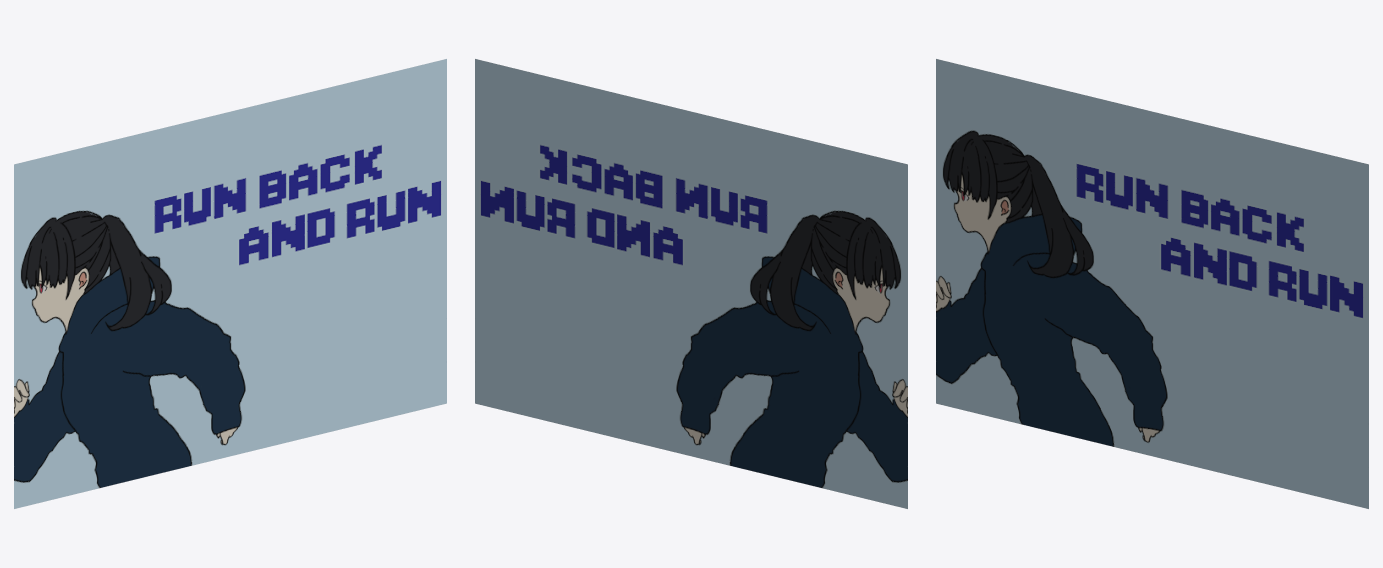
The model's file is Title.fbx.
3 renders of one model, left to right at view 1: azimuth 30°, elevation 25°; view 2: azimuth 150°, elevation 25°; view 3: azimuth 330°, elevation 25°, orthographic.
Parts seen in each view (by area): view 1: pPlane1; view 2: pPlane1; view 3: pPlane1.
Boxes of the visible parts, x1,y1,x2,y2 form: pPlane1: (14,59,446,508); pPlane1: (475,59,907,508); pPlane1: (936,59,1368,508).
Size of the model in its own units: 4 by 3.83 by 4.47e-08.
1 material, 1 textured.
